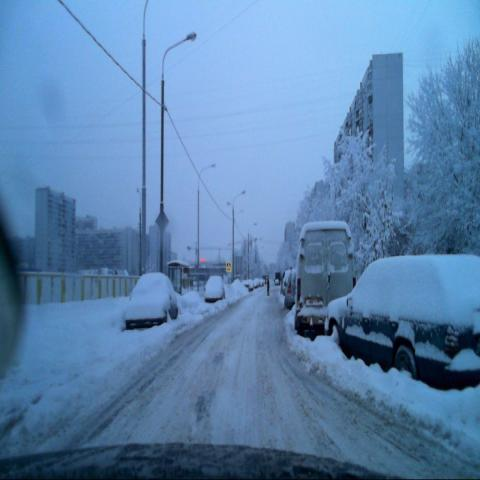5_19_1: (226, 260, 232, 273)
